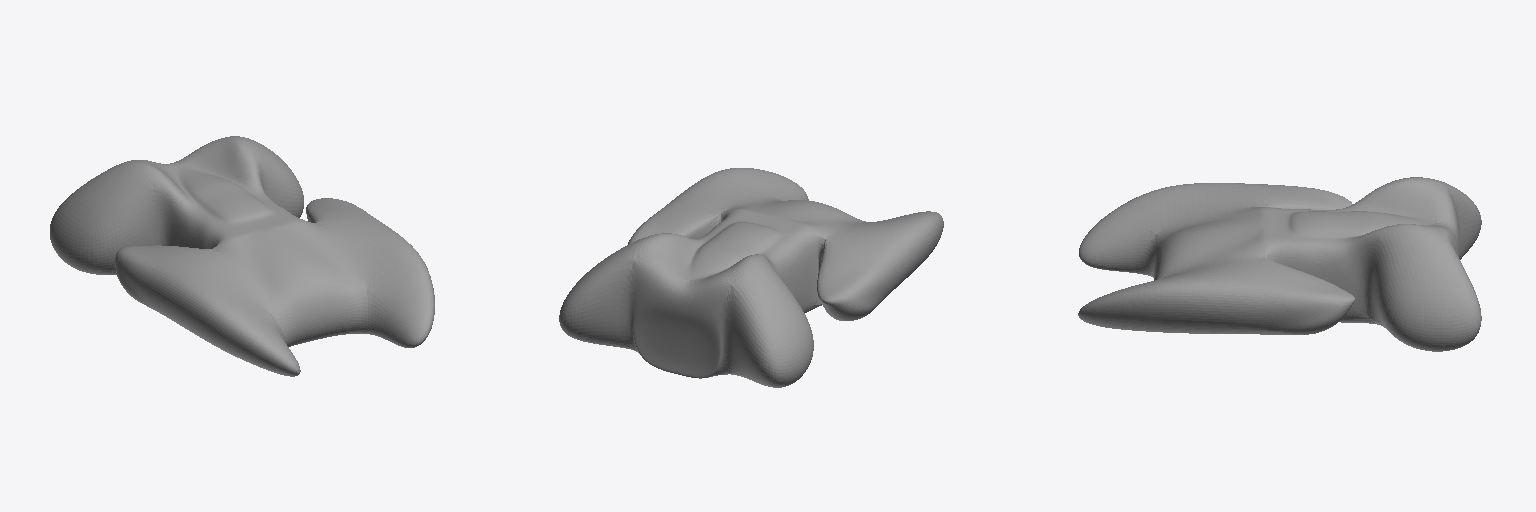
The model's file is ship_shocker.obj.
3 renders of one model, left to right at view 1: azimuth 30°, elevation 25°; view 2: azimuth 150°, elevation 25°; view 3: azimuth 270°, elevation 25°, orthographic.
Parts seen in each view (by area): view 1: Cube; view 2: Cube; view 3: Cube.
Part boxes in pixels (x1,y1,x2,y2): Cube: (50,136,434,376); Cube: (559,168,943,387); Cube: (1078,177,1481,351).
Size of the model in its own units: 4.94 by 2.17 by 7.32.